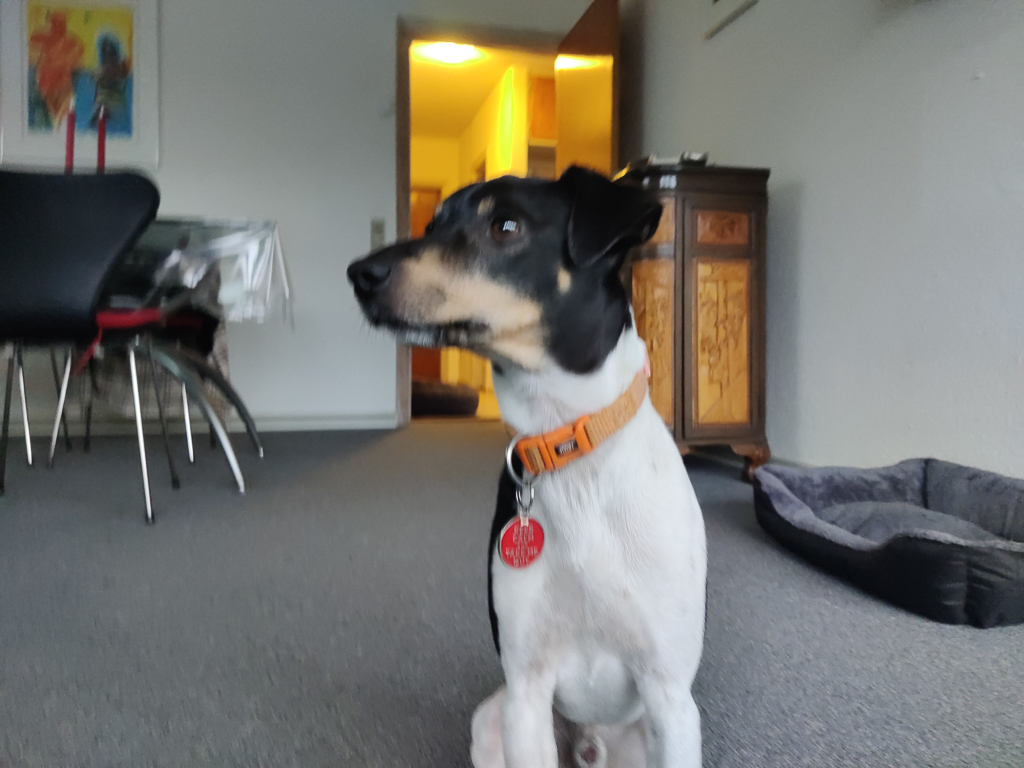Dog: (322, 150, 751, 768)
